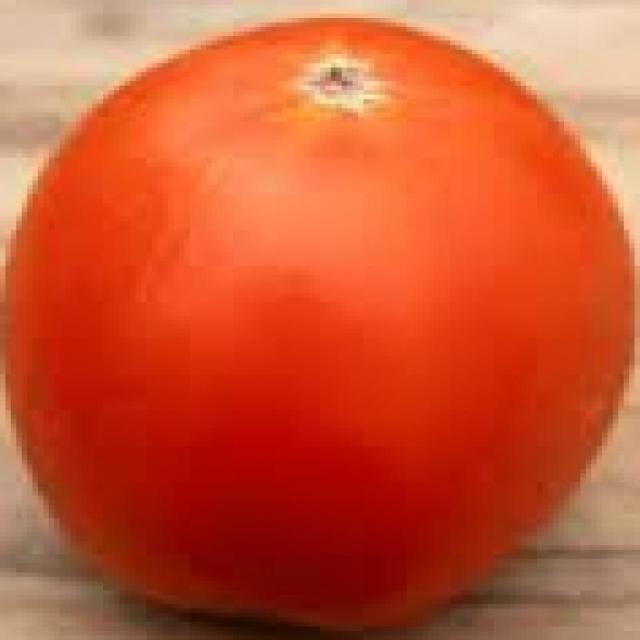Healthy Fruit: (20, 3, 426, 427)
